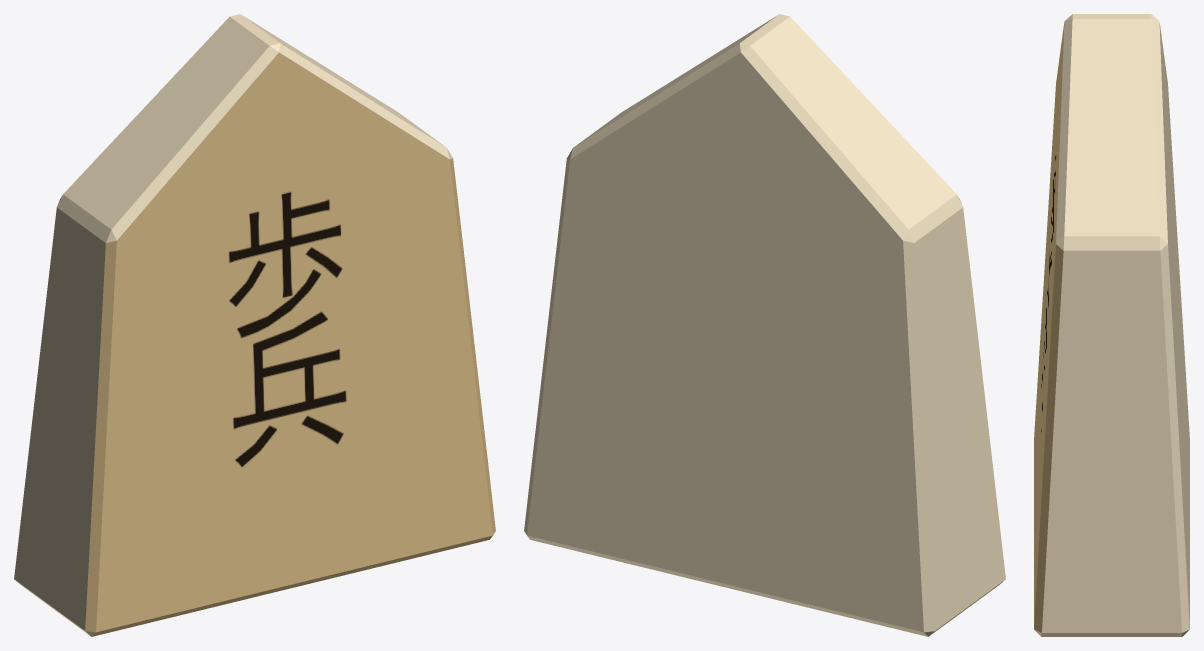
The model's file is Shogi_Pawn.glb.
3 renders of one model, left to right at view 1: azimuth 30°, elevation 25°; view 2: azimuth 150°, elevation 25°; view 3: azimuth 270°, elevation 25°, orthographic.
Parts seen in each view (by area): view 1: Shogi_Pawn; view 2: Shogi_Pawn; view 3: Shogi_Pawn.
Boxes of the visible parts, x1,y1,x2,y2 form: Shogi_Pawn: [14, 14, 495, 636]; Shogi_Pawn: [524, 14, 1005, 636]; Shogi_Pawn: [1034, 14, 1189, 636].
Size of the model in its own units: 0.021 by 0.026 by 0.007.
Materials: 2 (1 with a texture image).
